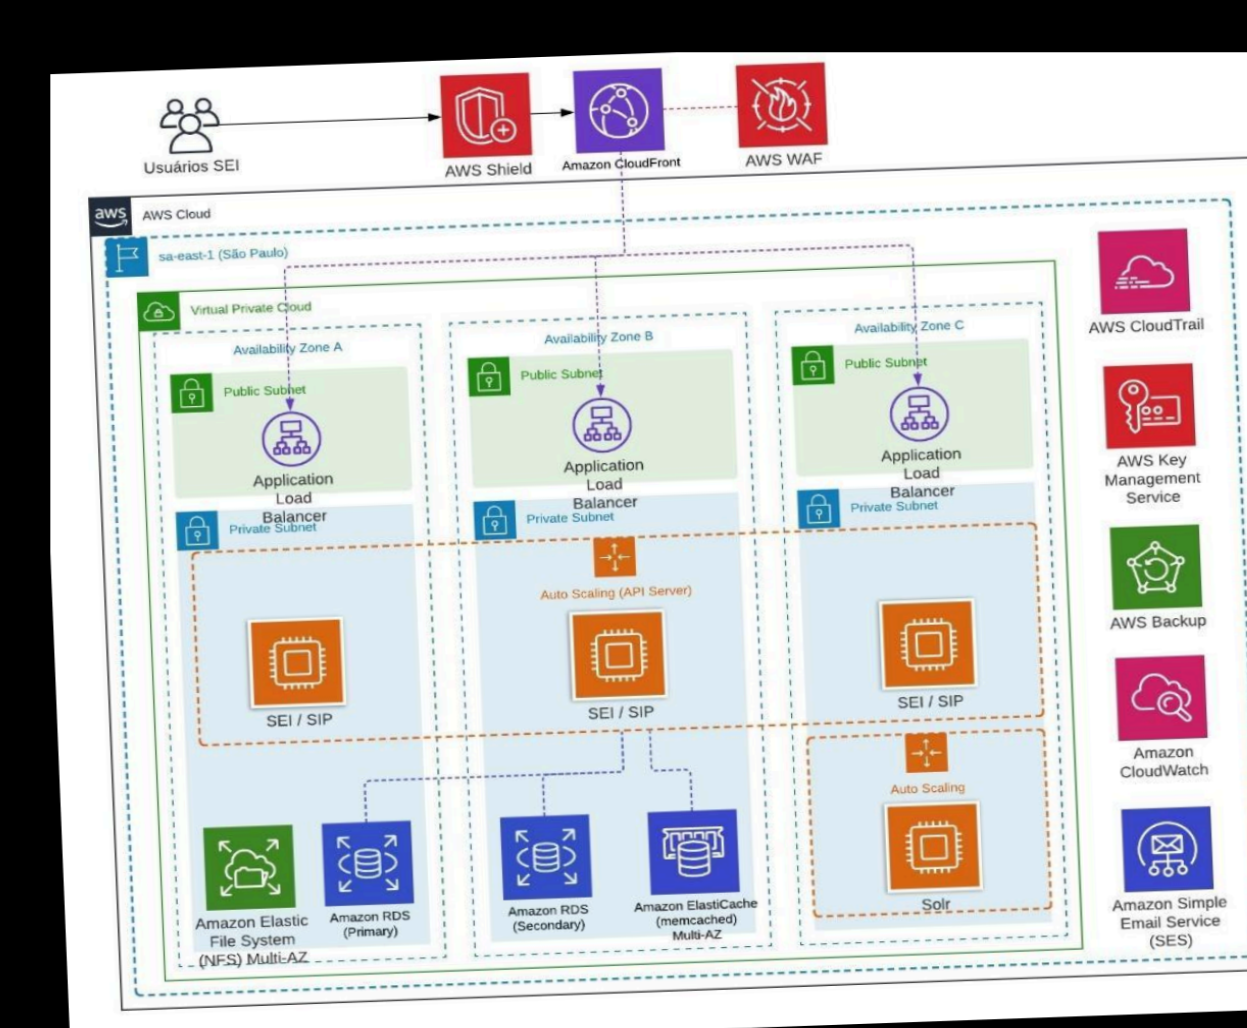aws_application_load_balancer: (255, 408, 324, 467), (565, 394, 634, 453), (883, 383, 952, 442)
aws_autoscaling: (905, 731, 946, 771), (592, 536, 634, 576)
aws_backup: (1110, 523, 1200, 608)
aws_cloud: (84, 195, 130, 232)
aws_cloud_trail: (1098, 226, 1188, 312)
aws_cloudfront: (569, 66, 664, 153)
aws_cloudwatch: (1115, 657, 1203, 740)
aws_elactic_file_system(nfs)_multi-az: (204, 824, 294, 910)
aws_elasticache: (644, 811, 740, 895)
aws_key_management_service: (1101, 362, 1195, 450)
aws_private_subnet: (796, 488, 838, 531), (473, 498, 516, 538), (175, 509, 218, 549)
aws_public_subnet: (437, 68, 531, 159), (167, 371, 213, 413), (466, 355, 509, 396), (791, 344, 831, 384)
aws_rds: (323, 820, 413, 902), (501, 814, 590, 895)
aws_region: (102, 235, 149, 276)
aws_simple_email_service: (1120, 806, 1213, 893)
aws_virtual_private_cloud: (136, 291, 181, 331)
aws_waf: (728, 57, 829, 150)
sei/sip: (568, 607, 664, 698), (248, 615, 344, 706), (878, 596, 974, 687)
solr: (886, 801, 977, 885)
user: (149, 91, 227, 155)
